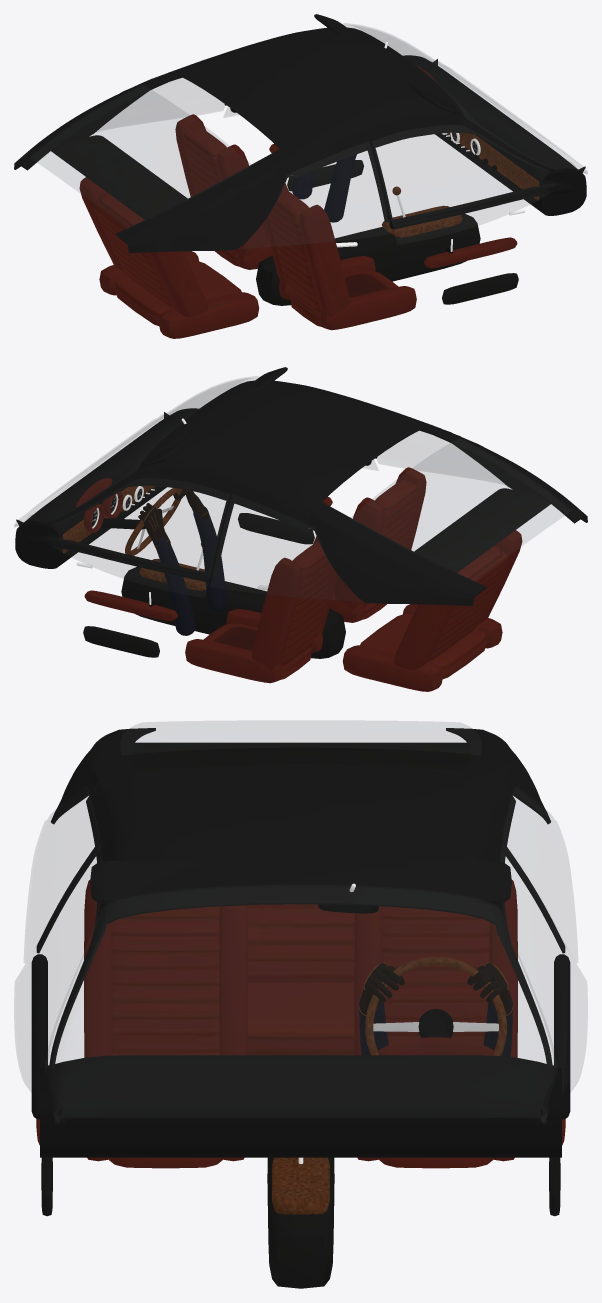
The model's file is ag_aurelia_cockpit.glb.
3 views of the same model, one above another, from view 1: azimuth 30°, elevation 25°; view 2: azimuth 150°, elevation 25°; view 3: azimuth 270°, elevation 25° (orthographic). The views are drawn at different scales.
Parts seen in each view (by area): view 1: cockpit_shell, cabin_glass, window_R, hands; view 2: cockpit_shell, cabin_glass, window_L, hands, steering_wheel; view 3: cockpit_shell, cabin_glass, window_R, window_L, hands, steering_wheel.
Part boxes in pixels (x1=…): cockpit_shell: x1=14, y1=14, x2=586, y2=338; cabin_glass: x1=31, y1=23, x2=587, y2=248; window_R: x1=372, y1=125, x2=551, y2=244; hands: x1=292, y1=154, x2=356, y2=222; cockpit_shell: x1=15, y1=367, x2=587, y2=691; cabin_glass: x1=14, y1=376, x2=570, y2=601; window_L: x1=50, y1=478, x2=229, y2=597; hands: x1=138, y1=489, x2=227, y2=635; steering_wheel: x1=125, y1=488, x2=182, y2=555; cockpit_shell: x1=31, y1=728, x2=570, y2=1288; cabin_glass: x1=24, y1=721, x2=577, y2=1123; window_R: x1=14, y1=842, x2=101, y2=1122; window_L: x1=500, y1=842, x2=587, y2=1122; hands: x1=359, y1=962, x2=512, y2=1056; steering_wheel: x1=365, y1=956, x2=506, y2=1056.
Bounding box in the file's own units: 2.29 × 1.11 × 1.57.
Materials: 4 (2 with a texture image).
